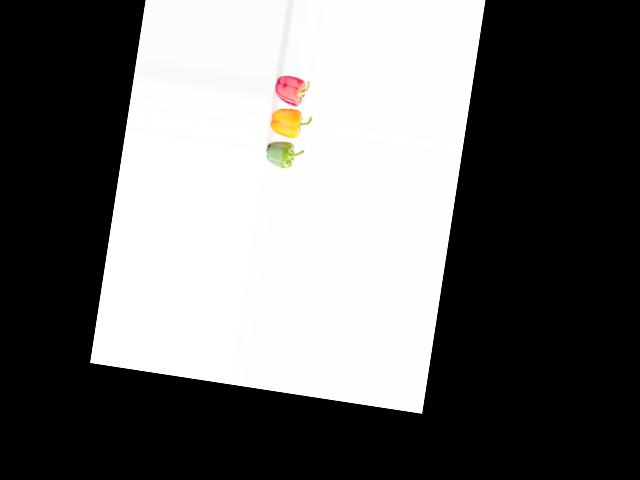bell_pepper: (273, 71, 318, 109)
